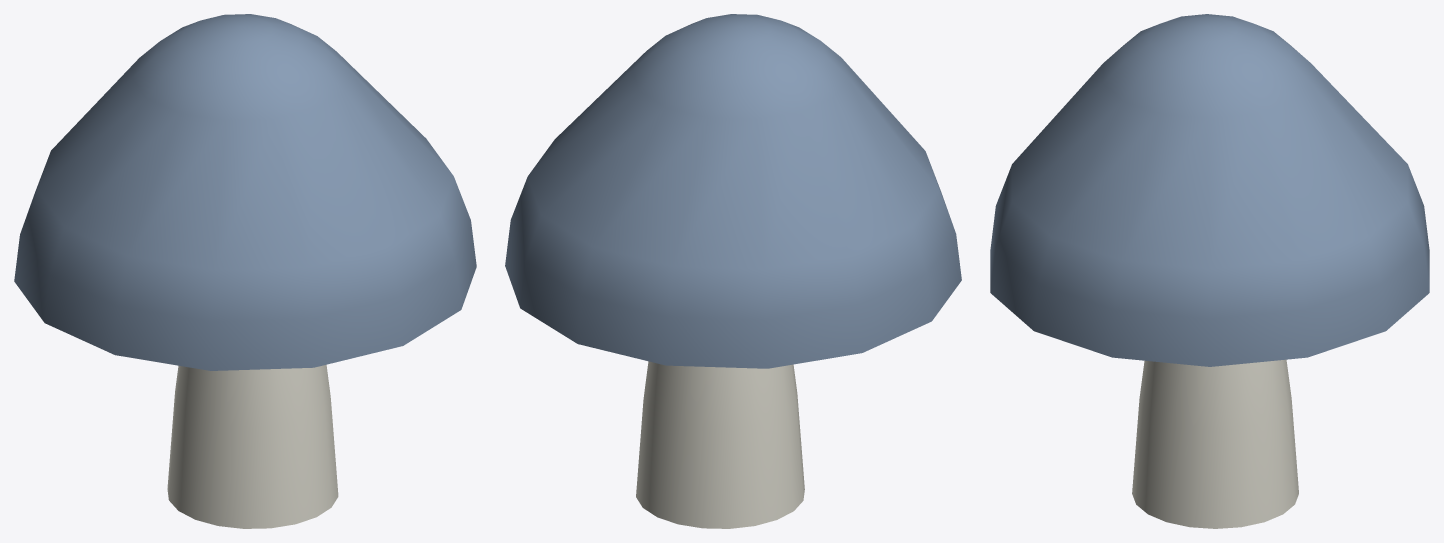
The model's file is MushroomBlauwMiddel.fbx.
3 views of the same model, side by side, from view 1: azimuth 30°, elevation 25°; view 2: azimuth 150°, elevation 25°; view 3: azimuth 270°, elevation 25° (orthographic). The views are drawn at different scales.
Visible parts, largest first — view 1: polySurface3406; view 2: polySurface3406; view 3: polySurface3406.
Part boxes in pixels (x1,y1,x2,y2): polySurface3406: (14,14,476,528); polySurface3406: (505,14,961,528); polySurface3406: (990,14,1429,528).
Size of the model in its own units: 0.0878 by 0.0988 by 0.0856.
